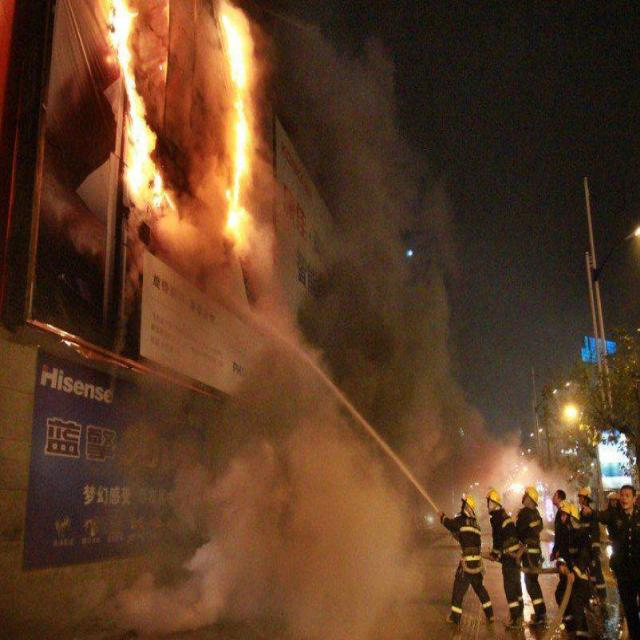fire: (94, 0, 177, 220), (208, 2, 274, 273)
smoke: (210, 384, 389, 602), (286, 40, 414, 232), (323, 247, 451, 423)
